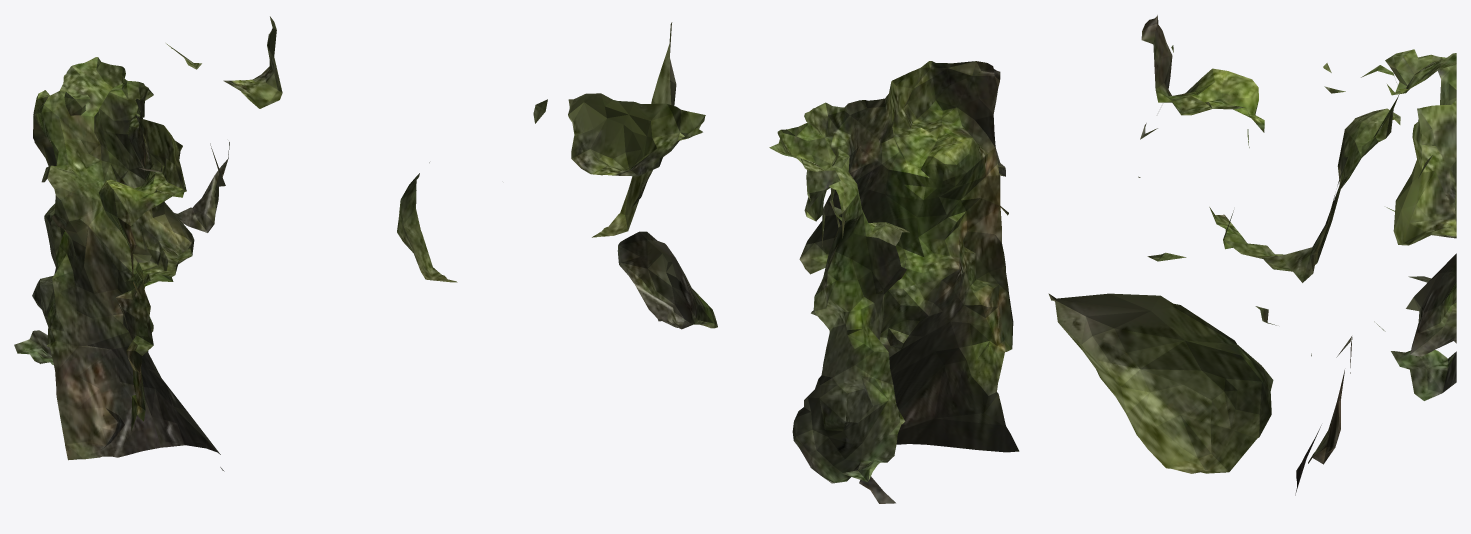
3 views of the same model, side by side, from view 1: azimuth 30°, elevation 25°; view 2: azimuth 150°, elevation 25°; view 3: azimuth 270°, elevation 25° (orthographic). The views are drawn at different scales.
Bounding box in the file's own units: 5.9 × 5.9 × 5.05.
Materials: 3 (3 with a texture image).
